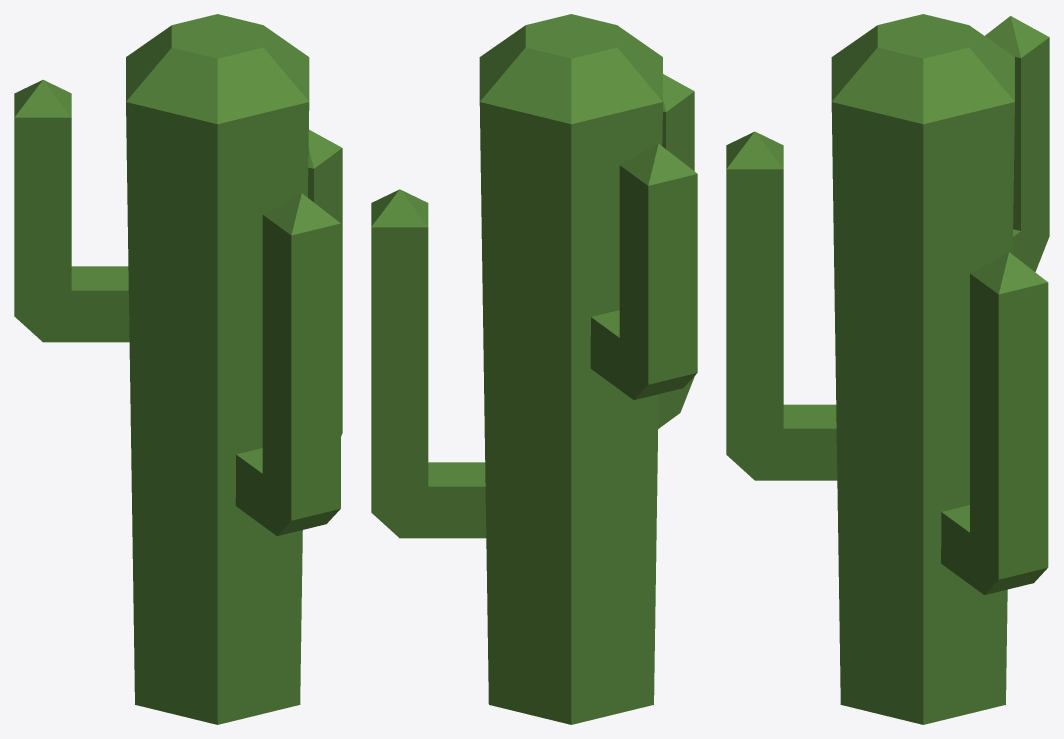
File: ds_cactus_d.glb
The picture shows the model from 3 angles, left to right: view 1: azimuth 30°, elevation 25°; view 2: azimuth 150°, elevation 25°; view 3: azimuth 270°, elevation 25°; orthographic projection.
Visible parts, largest first — view 1: ds_cactus_d; view 2: ds_cactus_d; view 3: ds_cactus_d.
Part boxes in pixels (left/top/right/bottom): ds_cactus_d: left=14, top=14, right=342, bottom=724; ds_cactus_d: left=371, top=14, right=697, bottom=724; ds_cactus_d: left=726, top=14, right=1049, bottom=724.
Bounding box in the file's own units: 1.48 × 2.8 × 1.27.
